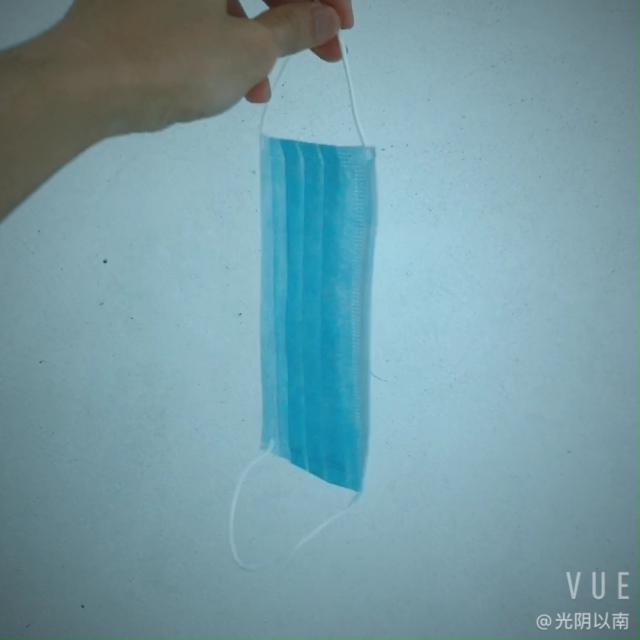non-organic waste: (250, 124, 382, 485)
